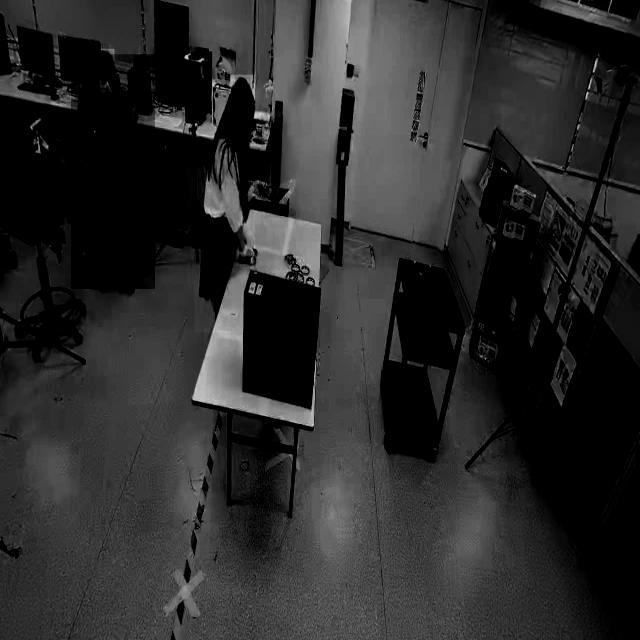face_mask: (96, 64, 116, 101)
hand_noglove: (84, 172, 106, 216)
head_nohelmet: (230, 74, 256, 106), (91, 49, 115, 67)
person: (71, 54, 155, 290), (194, 79, 256, 333)
